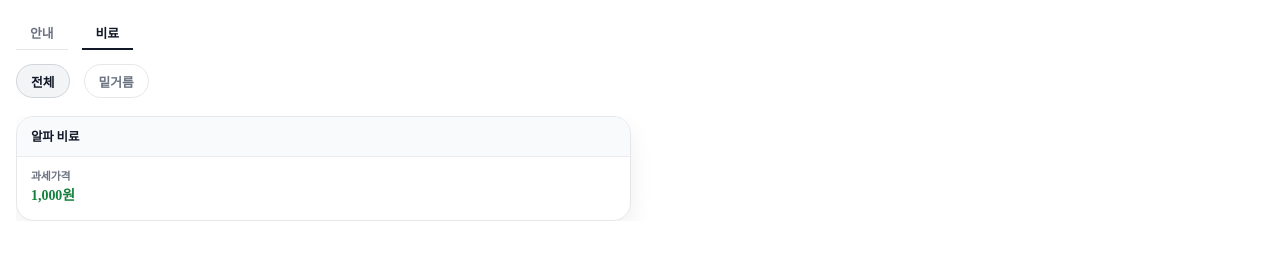
Test: category description › opens category information when the category is selected
The width and height of the screenshot is (1280, 278).
Step 1. Click the button "비료" → (107, 33), box [82,16,133,50]
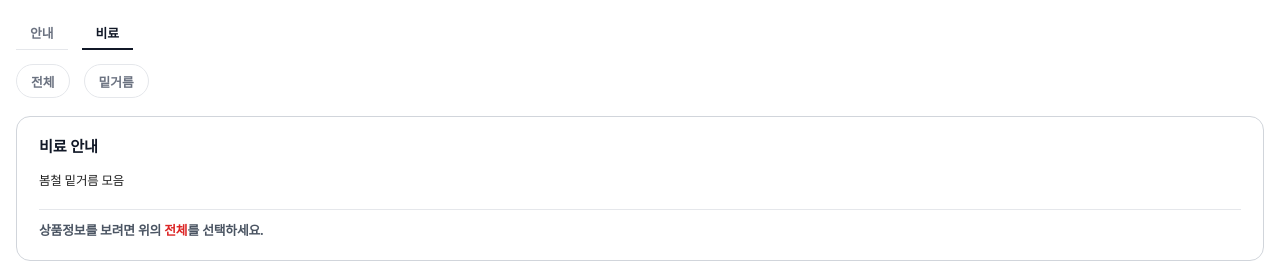
Expected: the heading "비료 안내" is shown, [39,138,98,155]
Expected: the text "봄철 밑거름 모음" is shown, [39,174,124,188]
Expected: the text "알파 비료" is gone
